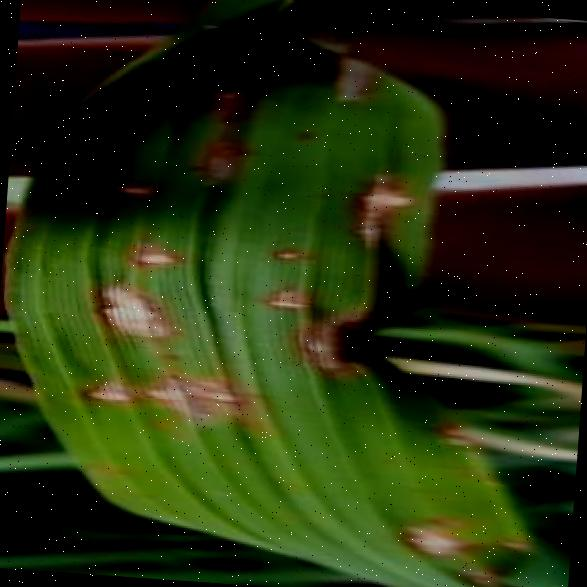Leaf_smut: (256, 294, 396, 398), (134, 352, 276, 444), (397, 494, 522, 586), (181, 117, 288, 220), (73, 263, 178, 358), (342, 154, 418, 257), (51, 338, 140, 420), (409, 396, 505, 469), (231, 268, 314, 338), (242, 210, 330, 276), (97, 223, 192, 278), (205, 62, 274, 135), (84, 154, 154, 216)
